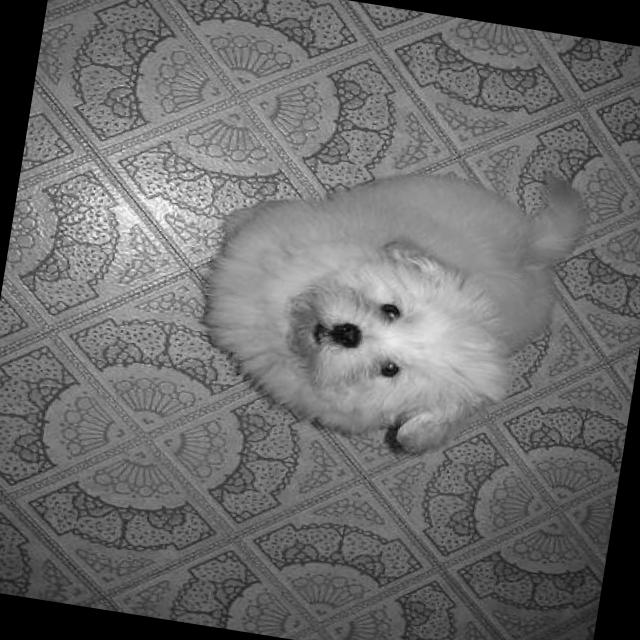sitting: (176, 116, 598, 482)
